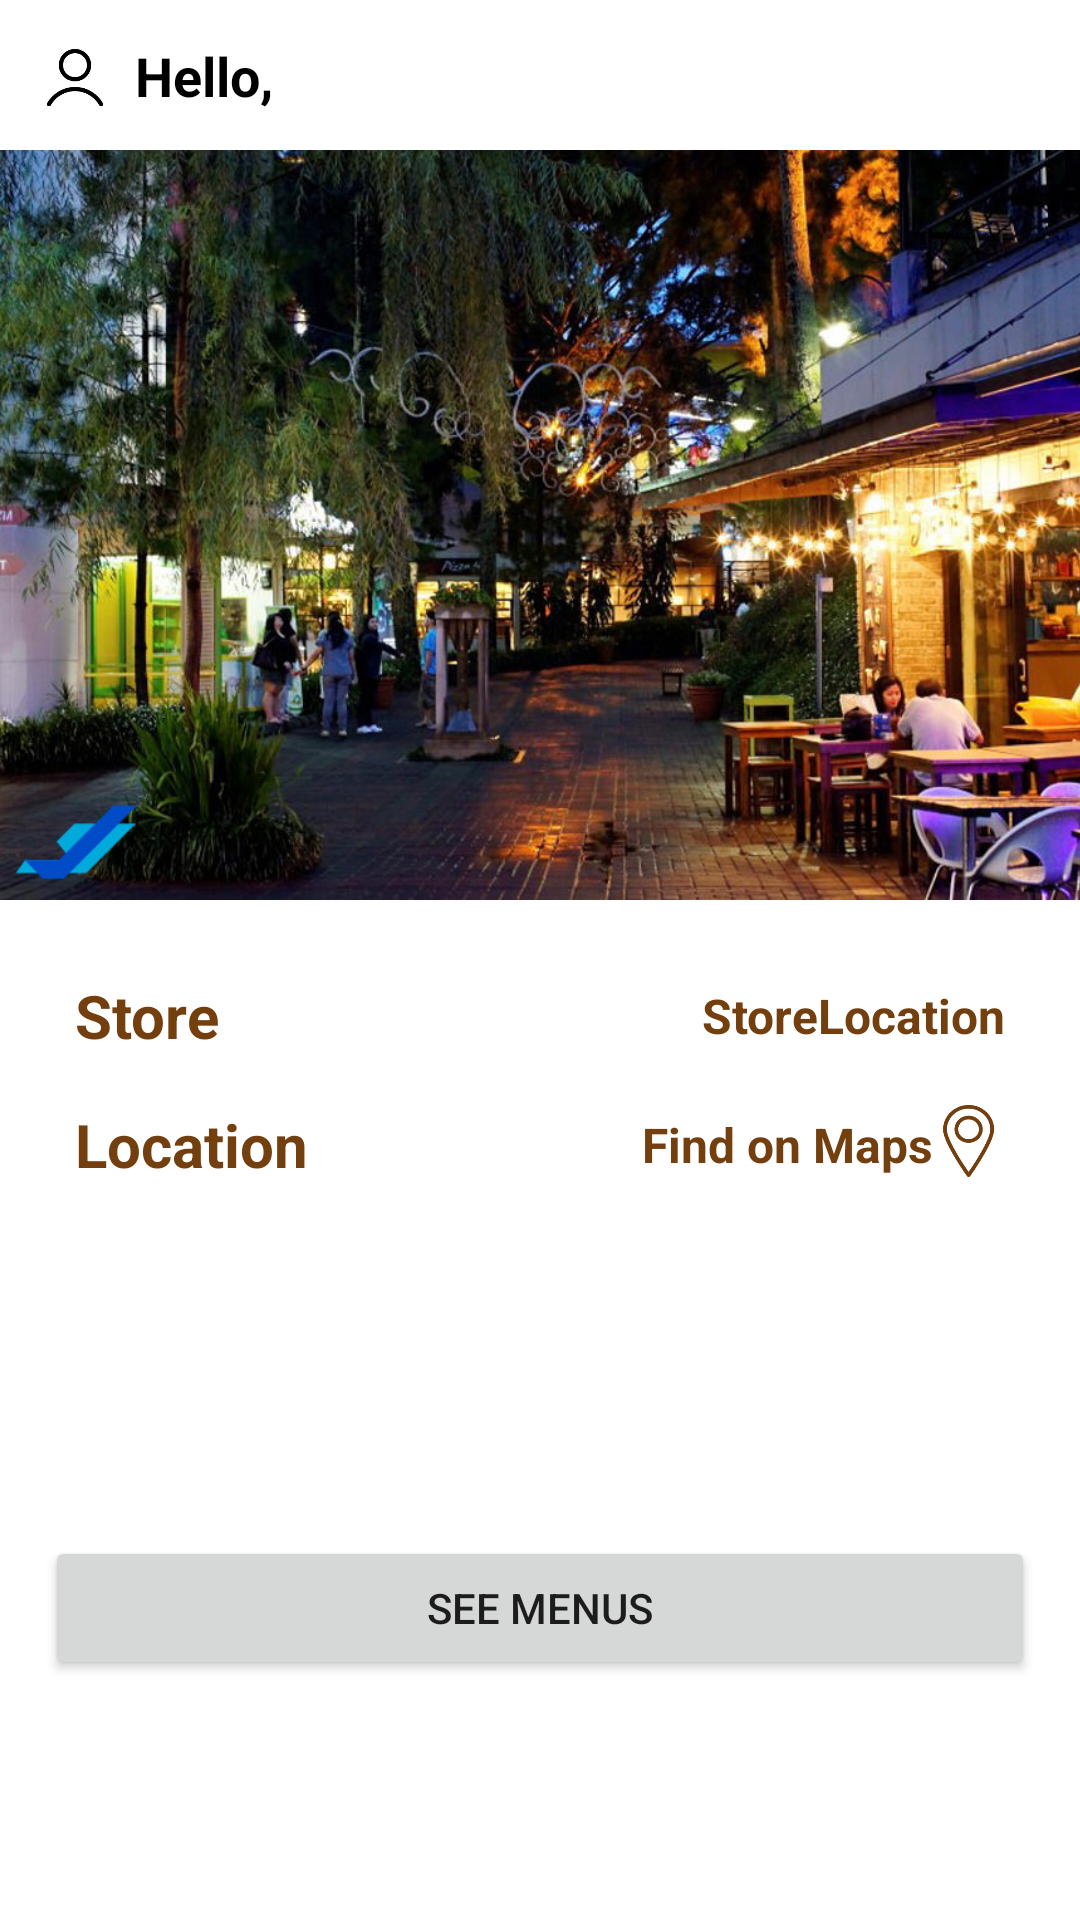

Icons on this 1080w x 1920h Android screen, each with the point to tap as (x,y):
location pin: (968,1141)
profile picture: (75,77)
